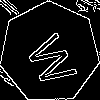W: (25, 27, 86, 91)
